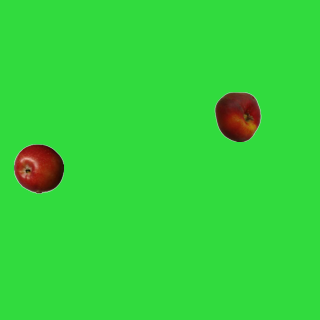Apple Braeburn: (13, 143, 63, 193)
Nectarine Flat: (212, 91, 262, 141)
